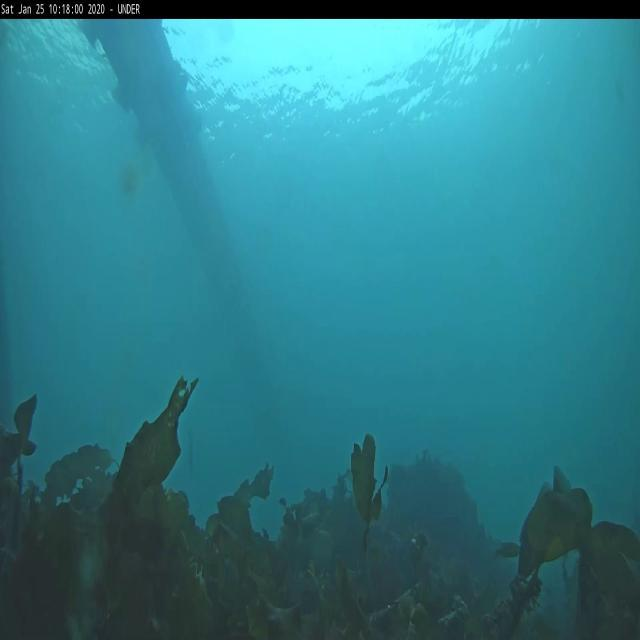fish: (185, 434, 198, 480)
